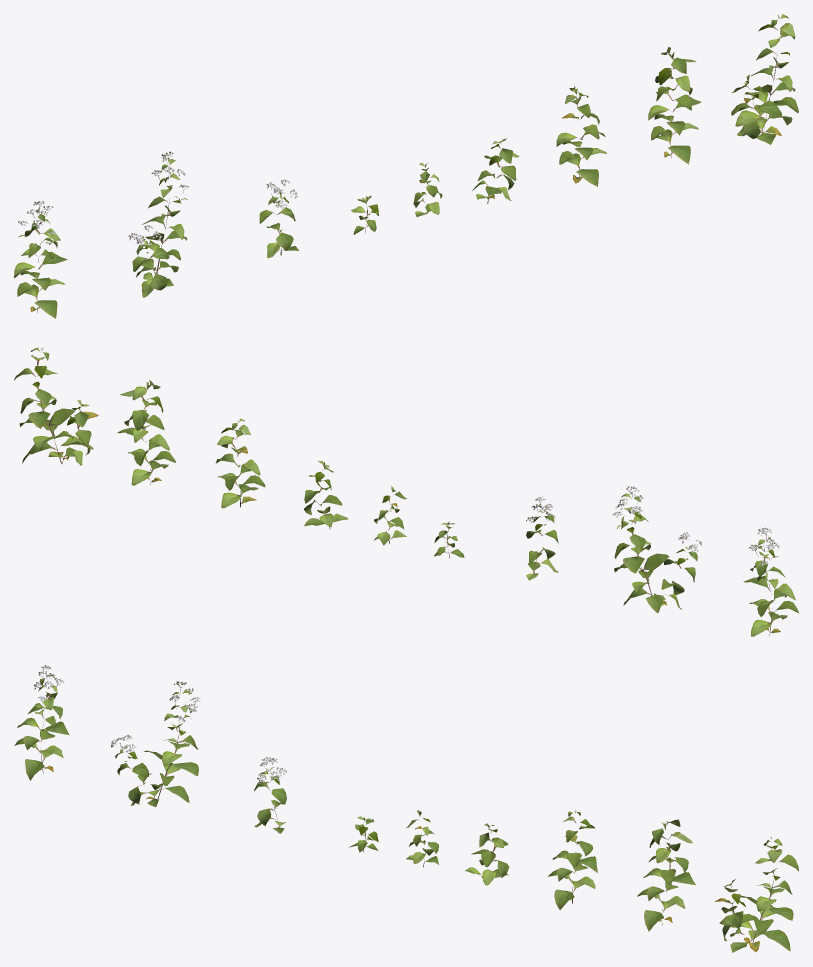
Rendered from shrub-optimized.glb.
3 views of the same model, one above another, from view 1: azimuth 30°, elevation 25°; view 2: azimuth 150°, elevation 25°; view 3: azimuth 330°, elevation 25° (orthographic). The views are drawn at different scales.
Parts seen in each view (by area): view 1: shrub_01_a; view 2: shrub_01_a; view 3: shrub_01_a.
Boxes of the visible parts, bbox=[...] form: shrub_01_a: bbox=[14, 14, 798, 318]; shrub_01_a: bbox=[14, 347, 798, 636]; shrub_01_a: bbox=[14, 665, 798, 952].
Size of the model in its own units: 2.59 by 0.3953 by 0.2181.
1 material, 1 textured.
